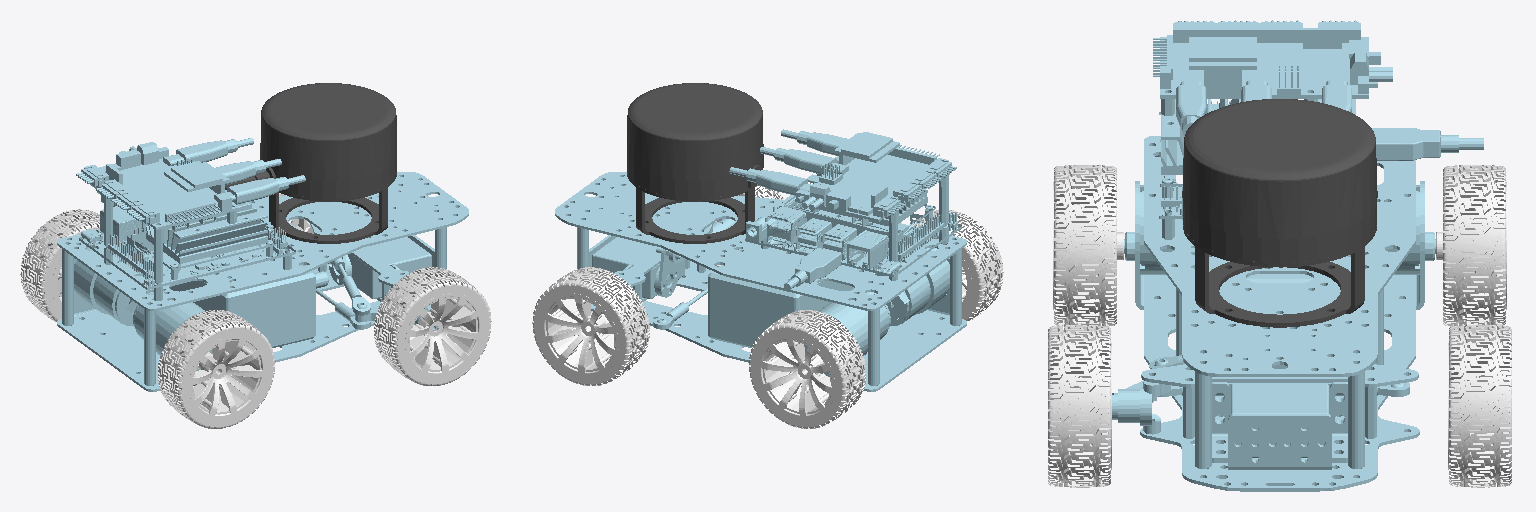
The robot description file, URDF, robot "mini_akm_robot":
<?xml version="1.0" encoding="utf-8"?>
<!-- This URDF was automatically created by SolidWorks to URDF Exporter! Originally created by [author] ([email redacted]) 
     Commit Version: 1.6.0-4-g7f85cfe  Build Version: 1.6.7995.38578
     For more information, please see http://wiki.ros.org/sw_urdf_exporter -->
<robot
  name="mini_akm_robot">
  <link
    name="base_link">
    <inertial>
      <origin
        xyz="-0.0119754973846389 -0.000133372463647142 0.021017784029409"
        rpy="0 0 0" />
      <mass
        value="0.431538267108837" />
      <inertia
        ixx="0.00025452933099881"
        ixy="1.90798049636859E-06"
        ixz="-8.81627294628033E-07"
        iyy="0.00037243817570695"
        iyz="4.03071469874943E-07"
        izz="0.000540327179164314" />
    </inertial>
    <visual>
      <origin
        xyz="0 0 0"
        rpy="0 0 0" />
      <geometry>
        <mesh
          filename="package://wheeltec_robot_urdf/meshes/mini_akm_robot_meshes/base_link.STL" />
      </geometry>
      <material
        name="">
        <color
          rgba="0.741176470588235 0.901960784313726 0.956862745098039 1" />
      </material>
    </visual>
    <collision>
      <origin
        xyz="0 0 0"
        rpy="0 0 0" />
      <geometry>
        <mesh
          filename="package://wheeltec_robot_urdf/meshes/mini_akm_robot_meshes/base_link.STL" />
      </geometry>
    </collision>
  </link>
  <link
    name="lb_link">
    <inertial>
      <origin
        xyz="-1.74588455068014E-07 -0.000208203511794444 3.83077326214509E-08"
        rpy="0 0 0" />
      <mass
        value="0.0456749740999707" />
      <inertia
        ixx="1.81808801892974E-05"
        ixy="-1.7622297358917E-11"
        ixz="3.41287253300913E-12"
        iyy="3.14403863492233E-05"
        iyz="1.33311989069345E-11"
        izz="1.81803662298203E-05" />
    </inertial>
    <visual>
      <origin
        xyz="0 0 0"
        rpy="0 0 0" />
      <geometry>
        <mesh
          filename="package://wheeltec_robot_urdf/meshes/mini_akm_robot_meshes/lb_link.STL" />
      </geometry>
      <material
        name="">
        <color
          rgba="1 1 1 1" />
      </material>
    </visual>
    <collision>
      <origin
        xyz="0 0 0"
        rpy="0 0 0" />
      <geometry>
        <mesh
          filename="package://wheeltec_robot_urdf/meshes/mini_akm_robot_meshes/lb_link.STL" />
      </geometry>
    </collision>
  </link>
  <joint
    name="lb_joint"
    type="continuous">
    <origin
      xyz="-0.069657 0.07975 0.0162"
      rpy="0 0 0" />
    <parent
      link="base_link" />
    <child
      link="lb_link" />
    <axis
      xyz="0 -1 0" />
  </joint>
  <link
    name="rb_link">
    <inertial>
      <origin
        xyz="-1.21641156911045E-07 0.000208202847118158 3.82869461863777E-08"
        rpy="0 0 0" />
      <mass
        value="0.0456749740269158" />
      <inertia
        ixx="1.81808800640407E-05"
        ixy="-1.76128053558607E-11"
        ixz="-3.39346241698698E-12"
        iyy="3.14403861845454E-05"
        iyz="-1.33298144631598E-11"
        izz="1.81803661907041E-05" />
    </inertial>
    <visual>
      <origin
        xyz="0 0 0"
        rpy="0 0 0" />
      <geometry>
        <mesh
          filename="package://wheeltec_robot_urdf/meshes/mini_akm_robot_meshes/rb_link.STL" />
      </geometry>
      <material
        name="">
        <color
          rgba="1 1 1 1" />
      </material>
    </visual>
    <collision>
      <origin
        xyz="0 0 0"
        rpy="0 0 0" />
      <geometry>
        <mesh
          filename="package://wheeltec_robot_urdf/meshes/mini_akm_robot_meshes/rb_link.STL" />
      </geometry>
    </collision>
  </link>
  <joint
    name="rb_joint"
    type="continuous">
    <origin
      xyz="-0.069657 -0.079776 0.0162"
      rpy="0 0 0" />
    <parent
      link="base_link" />
    <child
      link="rb_link" />
    <axis
      xyz="0 -1 0" />
  </joint>
  <link
    name="front_link">
    <inertial>
      <origin
        xyz="2.47652365809037E-07 -2.27629542054232E-09 2.42861286636753E-17"
        rpy="0 0 0" />
      <mass
        value="0.115265613771811" />
      <inertia
        ixx="0.000198380666923192"
        ixy="-2.44845696267185E-12"
        ixz="-4.08963450598172E-21"
        iyy="2.73732443212511E-05"
        iyz="-3.60301679893399E-20"
        izz="0.000218069536992989" />
    </inertial>
    <visual>
      <origin
        xyz="0 0 0"
        rpy="0 0 0" />
      <geometry>
        <mesh
          filename="package://wheeltec_robot_urdf/meshes/mini_akm_robot_meshes/front_link.STL" />
      </geometry>
      <material
        name="">
        <color
          rgba="0.349019607843137 0.349019607843137 0.349019607843137 1" />
      </material>
    </visual>
    <collision>
      <origin
        xyz="0 0 0"
        rpy="0 0 0" />
      <geometry>
        <mesh
          filename="package://wheeltec_robot_urdf/meshes/mini_akm_robot_meshes/front_link.STL" />
      </geometry>
    </collision>
  </link>
  <joint
    name="front_joint"
    type="fixed">
    <origin
      xyz="0.14383 -1.2575E-05 0.01"
      rpy="0 0 0" />
    <parent
      link="base_link" />
    <child
      link="front_link" />
    <axis
      xyz="0 0 0" />
  </joint>
  <link
    name="controller_link">
    <inertial>
      <origin
        xyz="-0.0513531699176342 0.0474963429876354 0.0444073306956666"
        rpy="0 0 0" />
      <mass
        value="0.0335306890026228" />
      <inertia
        ixx="1.91764077163967E-05"
        ixy="9.52727501026462E-07"
        ixz="-5.84384705102991E-08"
        iyy="2.19811763093923E-05"
        iyz="3.14216738930502E-07"
        izz="4.00893380787535E-05" />
    </inertial>
    <visual>
      <origin
        xyz="0 0 0"
        rpy="0 0 0" />
      <geometry>
        <mesh
          filename="package://wheeltec_robot_urdf/meshes/mini_akm_robot_meshes/controller_link.STL" />
      </geometry>
      <material
        name="">
        <color
          rgba="0.741176470588235 0.901960784313726 0.956862745098039 1" />
      </material>
    </visual>
    <collision>
      <origin
        xyz="0 0 0"
        rpy="0 0 0" />
      <geometry>
        <mesh
          filename="package://wheeltec_robot_urdf/meshes/mini_akm_robot_meshes/controller_link.STL" />
      </geometry>
    </collision>
  </link>
  <joint
    name="controller_joint"
    type="fixed">
    <origin
      xyz="-0.00035718 -0.04684 0.0515"
      rpy="0 0 0" />
    <parent
      link="base_link" />
    <child
      link="controller_link" />
    <axis
      xyz="0 0 0" />
  </joint>
  <link
    name="laser_link">
    <inertial>
      <origin
        xyz="0.00196458631092469 -3.57895453832374E-06 -0.000201831632616292"
        rpy="0 0 0" />
      <mass
        value="0.0477519163756088" />
      <inertia
        ixx="3.38461999756745E-05"
        ixy="-2.19897168323003E-09"
        ixz="1.07118468678157E-06"
        iyy="3.94150415873187E-05"
        iyz="6.83978024968062E-10"
        izz="5.60787042126573E-05" />
    </inertial>
    <visual>
      <origin
        xyz="0 0 0"
        rpy="0 0 0" />
      <geometry>
        <mesh
          filename="package://wheeltec_robot_urdf/meshes/mini_akm_robot_meshes/laser.STL" />
      </geometry>
      <material
        name="">
        <color
          rgba="0.376470588235294 0.376470588235294 0.376470588235294 1" />
      </material>
    </visual>
    <collision>
      <origin
        xyz="0 0 0"
        rpy="0 0 0" />
      <geometry>
        <mesh
          filename="package://wheeltec_robot_urdf/meshes/mini_akm_robot_meshes/laser.STL" />
      </geometry>
    </collision>
  </link>
  <joint
    name="laser_joint"
    type="fixed">
    <origin
      xyz="0.051343 -1.2576E-05 0.094524"
      rpy="0 0 3.1416" />
    <parent
      link="base_link" />
    <child
      link="laser_link" />
    <axis
      xyz="0 0 0" />
  </joint>
  <link
    name="camera_link">
    <inertial>
      <origin
        xyz="-3.06765765623052E-07 -3.53954314998039E-07 1.07624439471543E-07"
        rpy="0 0 0" />
      <mass
        value="0.0559842512064702" />
      <inertia
        ixx="0.00013081095933833"
        ixy="1.20255127788037E-07"
        ixz="1.62335437066495E-06"
        iyy="1.91148634964856E-05"
        iyz="-2.80016753180902E-08"
        izz="0.000131387469522011" />
    </inertial>
    <visual>
      <origin
        xyz="0 0 0"
        rpy="0 0 0" />
      <geometry>
        <mesh
          filename="package://wheeltec_robot_urdf/meshes/mini_akm_robot_meshes/camera_link.STL" />
      </geometry>
      <material
        name="">
        <color
          rgba="1 1 1 1" />
      </material>
    </visual>
    <collision>
      <origin
        xyz="0 0 0"
        rpy="0 0 0" />
      <geometry>
        <mesh
          filename="package://wheeltec_robot_urdf/meshes/mini_akm_robot_meshes/camera_link.STL" />
      </geometry>
    </collision>
  </link>
  <joint
    name="camera_joint"
    type="fixed">
    <origin
      xyz="0.11365 0.00016542 0.076204"
      rpy="0 0 0" />
    <parent
      link="base_link" />
    <child
      link="camera_link" />
    <axis
      xyz="0 0 0" />
  </joint>
  <link
    name="left_link">
    <inertial>
      <origin
        xyz="-0.00429085747483857 0.0111736945302178 -0.0110145847149603"
        rpy="0 0 0" />
      <mass
        value="0.00476959924663217" />
      <inertia
        ixx="2.06909949437508E-07"
        ixy="-1.04973296356064E-07"
        ixz="-1.49927893294707E-09"
        iyy="3.93341439527907E-07"
        iyz="-5.98007533541798E-10"
        izz="4.63369851558769E-07" />
    </inertial>
    <visual>
      <origin
        xyz="0 0 0"
        rpy="0 0 0" />
      <geometry>
        <mesh
          filename="package://wheeltec_robot_urdf/meshes/mini_akm_robot_meshes/left_link.STL" />
      </geometry>
      <material
        name="">
        <color
          rgba="0.741176470588235 0.901960784313726 0.956862745098039 1" />
      </material>
    </visual>
    <collision>
      <origin
        xyz="0 0 0"
        rpy="0 0 0" />
      <geometry>
        <mesh
          filename="package://wheeltec_robot_urdf/meshes/mini_akm_robot_meshes/left_link.STL" />
      </geometry>
    </collision>
  </link>
  <joint
    name="left_joint"
    type="revolute">
    <origin
      xyz="0.073593 0.051987 0.022"
      rpy="0 0 0" />
    <parent
      link="base_link" />
    <child
      link="left_link" />
    <axis
      xyz="0 0 -1" />
    <limit
      lower="-0.39"
      upper="0.39"
      effort="0"
      velocity="0" />
  </joint>
  <link
    name="lf_link">
    <inertial>
      <origin
        xyz="-1.41585548674161E-07 1.91747322367264E-07 -4.64079716027549E-08"
        rpy="0 0 0" />
      <mass
        value="0.0441313542614254" />
      <inertia
        ixx="1.8122375254286E-05"
        ixy="1.01605691640891E-11"
        ixz="3.10311319459123E-12"
        iyy="3.14074902671165E-05"
        iyz="-3.35423251171137E-13"
        izz="1.81223732297953E-05" />
    </inertial>
    <visual>
      <origin
        xyz="0 0 0"
        rpy="0 0 0" />
      <geometry>
        <mesh
          filename="package://wheeltec_robot_urdf/meshes/mini_akm_robot_meshes/lf_link.STL" />
      </geometry>
      <material
        name="">
        <color
          rgba="1 1 1 1" />
      </material>
    </visual>
    <collision>
      <origin
        xyz="0 0 0"
        rpy="0 0 0" />
      <geometry>
        <mesh
          filename="package://wheeltec_robot_urdf/meshes/mini_akm_robot_meshes/lf_link.STL" />
      </geometry>
    </collision>
  </link>
  <joint
    name="lf_point"
    type="continuous">
    <origin
      xyz="0 0.0301260014087184 -0.0109999999999987"
      rpy="0 0 0" />
    <parent
      link="left_link" />
    <child
      link="lf_link" />
    <axis
      xyz="0 -1 0" />
  </joint>
  <link
    name="right_link">
    <inertial>
      <origin
        xyz="-0.00429085795403265 -0.0111736943537972 -0.0109854152864204"
        rpy="0 0 0" />
      <mass
        value="0.00476959923857933" />
      <inertia
        ixx="2.06909958805082E-07"
        ixy="1.0497330410809E-07"
        ixz="1.4992787833529E-09"
        iyy="3.9334142732894E-07"
        iyz="-5.98007566775091E-10"
        izz="4.63369848741371E-07" />
    </inertial>
    <visual>
      <origin
        xyz="0 0 0"
        rpy="0 0 0" />
      <geometry>
        <mesh
          filename="package://wheeltec_robot_urdf/meshes/mini_akm_robot_meshes/right_link.STL" />
      </geometry>
      <material
        name="">
        <color
          rgba="0.741176470588235 0.901960784313726 0.956862745098039 1" />
      </material>
    </visual>
    <collision>
      <origin
        xyz="0 0 0"
        rpy="0 0 0" />
      <geometry>
        <mesh
          filename="package://wheeltec_robot_urdf/meshes/mini_akm_robot_meshes/right_link.STL" />
      </geometry>
    </collision>
  </link>
  <joint
    name="right_joint"
    type="revolute">
    <origin
      xyz="0.0735933420063898 -0.0520125752742397 0.0219999999999997"
      rpy="0 0 0" />
    <parent
      link="base_link" />
    <child
      link="right_link" />
    <axis
      xyz="0 0 1" />
    <limit
      lower="-0.39"
      upper="0.39"
      effort="0"
      velocity="0" />
  </joint>
  <link
    name="rf_link">
    <inertial>
      <origin
        xyz="-1.82018104019632E-07 -1.9296458401985E-07 -3.39361436400148E-08"
        rpy="0 0 0" />
      <mass
        value="0.0441313541199343" />
      <inertia
        ixx="1.81223720754189E-05"
        ixy="8.14282826550161E-12"
        ixz="-2.30932816847721E-12"
        iyy="3.14074908686231E-05"
        iyz="-6.6892241788197E-12"
        izz="1.81223769687268E-05" />
    </inertial>
    <visual>
      <origin
        xyz="0 0 0"
        rpy="0 0 0" />
      <geometry>
        <mesh
          filename="package://wheeltec_robot_urdf/meshes/mini_akm_robot_meshes/rf_link.STL" />
      </geometry>
      <material
        name="">
        <color
          rgba="1 1 1 1" />
      </material>
    </visual>
    <collision>
      <origin
        xyz="0 0 0"
        rpy="0 0 0" />
      <geometry>
        <mesh
          filename="package://wheeltec_robot_urdf/meshes/mini_akm_robot_meshes/rf_link.STL" />
      </geometry>
    </collision>
  </link>
  <joint
    name="rf_joint"
    type="continuous">
    <origin
      xyz="0 -0.0301260001523718 -0.0109999999999997"
      rpy="0 0 0" />
    <parent
      link="right_link" />
    <child
      link="rf_link" />
    <axis
      xyz="0 -1 0" />
  </joint>
</robot>

--- Render facts (derived) ---
Views: 3 orthographic renders of the robot side by side, from view 1: azimuth 30°, elevation 25°; view 2: azimuth 150°, elevation 25°; view 3: azimuth 270°, elevation 25°.
Robot: mini_akm_robot — 11 links, 10 joints (2 revolute, 4 continuous, 4 fixed); root link base_link; default pose: every joint at zero.
Links seen in each view (by area): view 1: base_link, controller_link, laser_link, rb_link, rf_link, lb_link; view 2: base_link, controller_link, laser_link, lb_link, lf_link, rb_link; view 3: base_link, laser_link, controller_link, rb_link, lb_link, rf_link, lf_link, right_link.
Link boxes in pixels (left/top/right/bottom): base_link: left=57, top=172, right=468, bottom=391; controller_link: left=76, top=138, right=305, bottom=300; laser_link: left=225, top=83, right=396, bottom=243; rb_link: left=158, top=310, right=274, bottom=428; rf_link: left=374, top=267, right=491, bottom=385; lb_link: left=20, top=209, right=120, bottom=321; base_link: left=555, top=172, right=966, bottom=391; controller_link: left=729, top=129, right=961, bottom=290; laser_link: left=627, top=83, right=763, bottom=243; lb_link: left=749, top=310, right=865, bottom=428; lf_link: left=532, top=267, right=649, bottom=385; rb_link: left=913, top=210, right=1003, bottom=321; base_link: left=1124, top=136, right=1435, bottom=491; laser_link: left=1182, top=99, right=1377, bottom=327; controller_link: left=1153, top=20, right=1483, bottom=239; rb_link: left=1053, top=165, right=1123, bottom=326; lb_link: left=1436, top=165, right=1506, bottom=326; rf_link: left=1048, top=325, right=1111, bottom=487; lf_link: left=1448, top=325, right=1511, bottom=487; right_link: left=1112, top=380, right=1170, bottom=434.
Size in the robot's own frame: 0.2318 by 0.1894 by 0.1446 metres.
8 mesh visuals loaded from 11 distinct referenced files (8 binary STL); not drawn: 3 (reference not matched to a file when rendering).